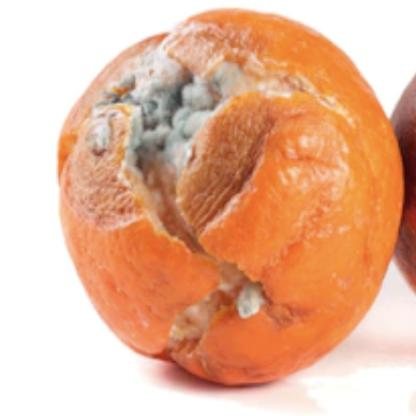rotten: (57, 7, 407, 386)
